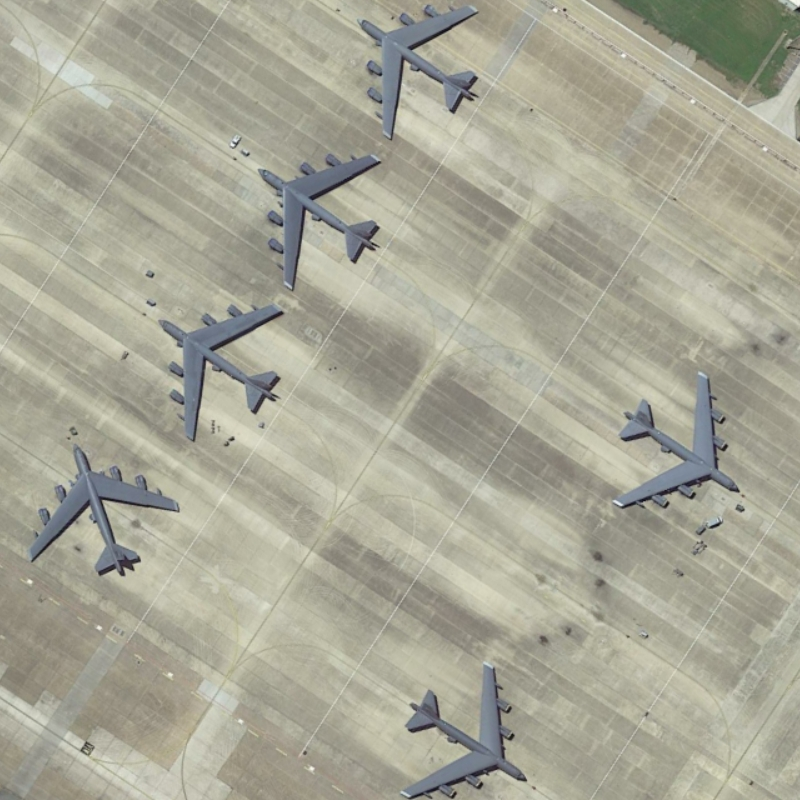A8: (21, 437, 187, 584), (607, 365, 746, 516), (389, 658, 534, 800), (153, 297, 290, 442), (349, 2, 488, 142), (253, 153, 393, 292)
